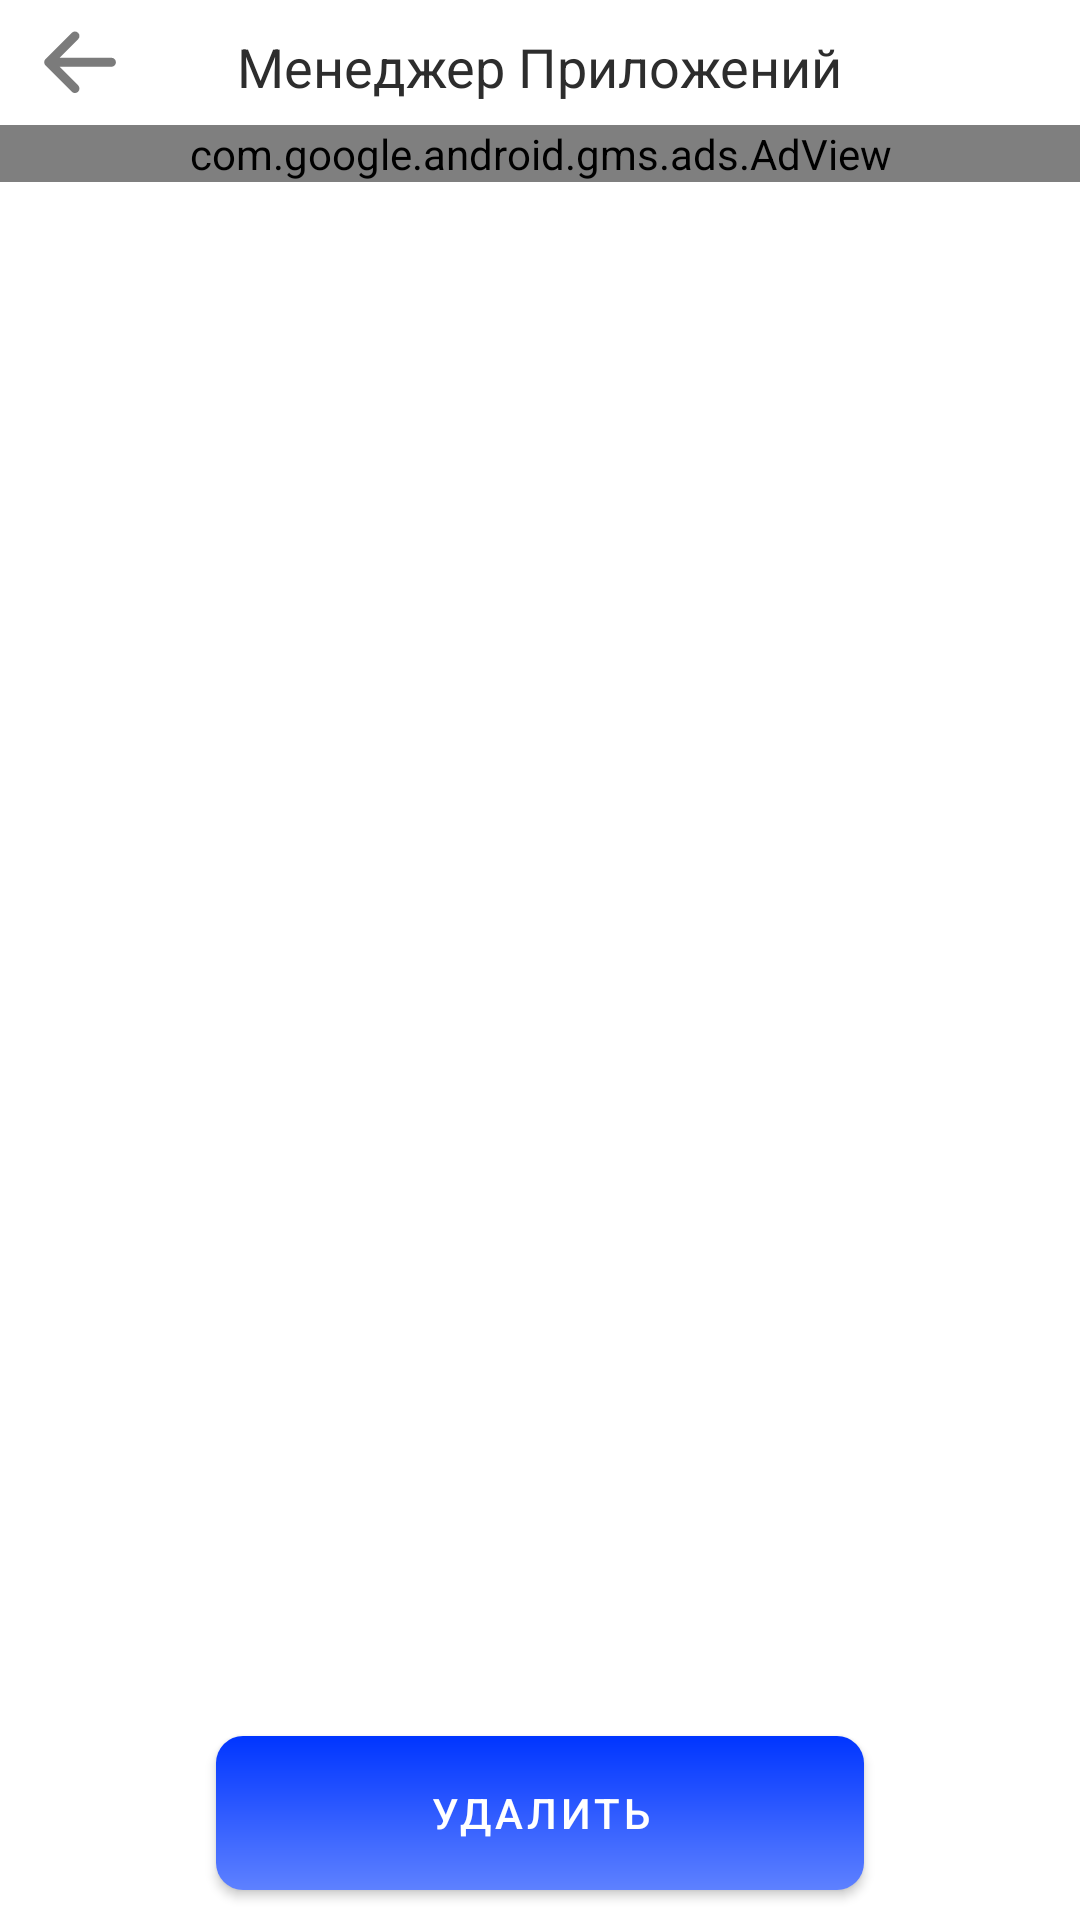

Named icons in this screenshot (1080 x 1920) and their centers, point (x, y):
back: point (80, 62)
